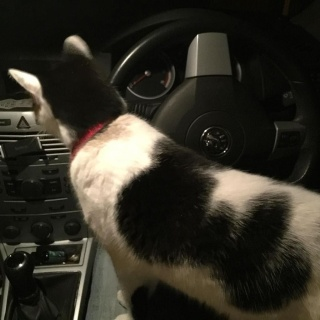Cat: (8, 34, 319, 319)
